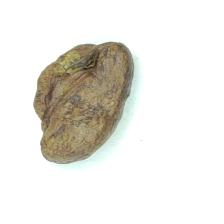NG: (33, 42, 97, 151)
